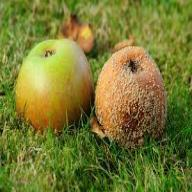apple: (94, 47, 167, 143), (17, 42, 92, 129)
